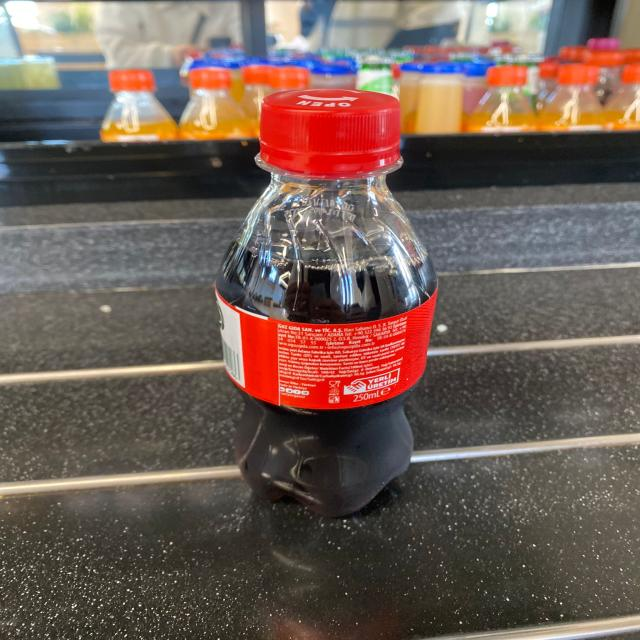yan_yemek: (212, 87, 440, 517)
